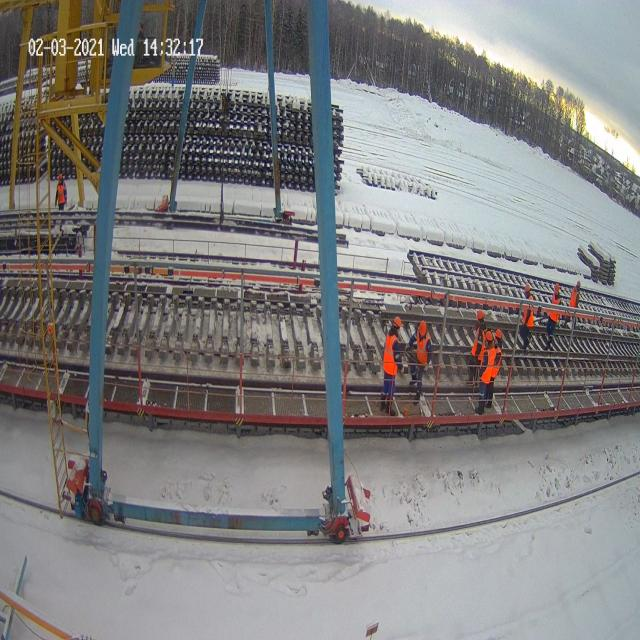Helmet: (419, 320, 426, 336), (393, 316, 402, 328), (485, 331, 493, 341), (495, 328, 502, 339), (477, 310, 484, 320), (554, 283, 560, 292), (524, 283, 530, 292), (576, 280, 580, 290), (58, 174, 62, 180)
Person: (474, 328, 502, 415), (380, 316, 403, 414), (412, 319, 432, 405), (468, 310, 488, 383), (519, 283, 535, 357), (545, 282, 562, 350), (564, 280, 581, 328), (55, 172, 67, 232)
